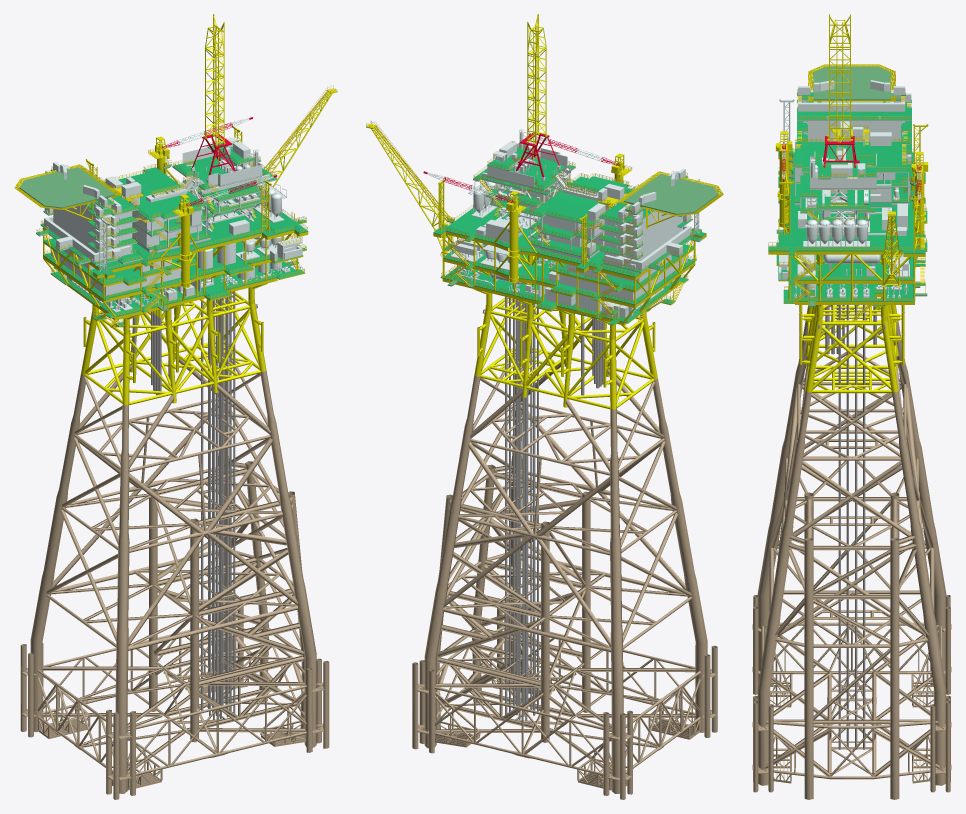
The picture shows the model from 3 angles, left to right: view 1: azimuth 30°, elevation 25°; view 2: azimuth 150°, elevation 25°; view 3: azimuth 270°, elevation 25°; orthographic projection. The views are drawn at different scales.
Visible parts, largest first — view 1: pasted__polySurface67731; view 2: pasted__polySurface67731; view 3: pasted__polySurface67731.
Boxes of the visible parts, left/top/right/bottom form: pasted__polySurface67731: left=14, top=14, right=337, bottom=799; pasted__polySurface67731: left=366, top=14, right=723, bottom=799; pasted__polySurface67731: left=752, top=14, right=951, bottom=799.
Size of the model in its own units: 10989 by 23147 by 5582.
11 materials, 4 textured.
